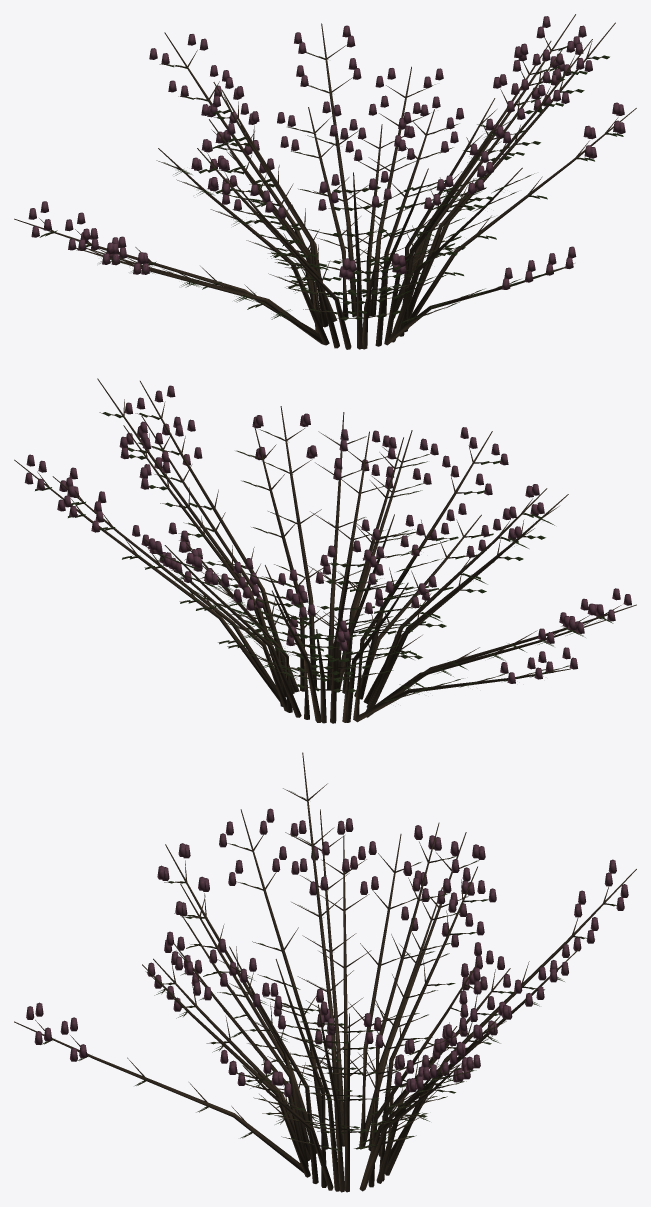
File: heather-bush.glb
The picture shows the model from 3 angles, top to bottom: view 1: azimuth 30°, elevation 25°; view 2: azimuth 150°, elevation 25°; view 3: azimuth 270°, elevation 25°; orthographic projection. The views are drawn at different scales.
Parts seen in each view (by area): view 1: heather-bush / bark, heather-bush / flower, heather-bush / leaf; view 2: heather-bush / bark, heather-bush / flower, heather-bush / leaf; view 3: heather-bush / bark, heather-bush / flower, heather-bush / leaf.
Part boxes in pixels (bbox=[...]): heather-bush / bark: bbox=[14, 14, 636, 349]; heather-bush / flower: bbox=[28, 16, 625, 289]; heather-bush / leaf: bbox=[39, 42, 623, 323]; heather-bush / bark: bbox=[14, 378, 636, 723]; heather-bush / flower: bbox=[24, 385, 631, 683]; heather-bush / leaf: bbox=[35, 412, 613, 703]; heather-bush / bark: bbox=[14, 752, 636, 1192]; heather-bush / flower: bbox=[26, 808, 628, 1096]; heather-bush / leaf: bbox=[41, 790, 624, 1151].
Bounding box in the file's own units: 1.8 × 0.8 × 1.5.
Materials: 3 (3 with a texture image).
